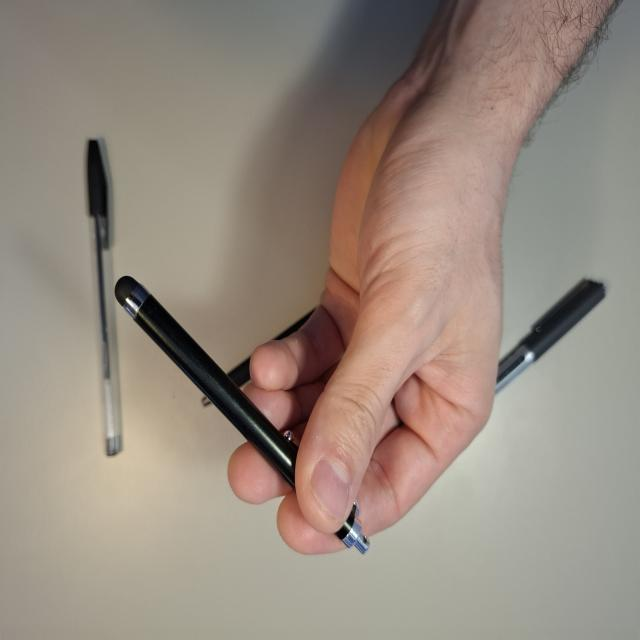glove_off: (225, 78, 530, 560)
